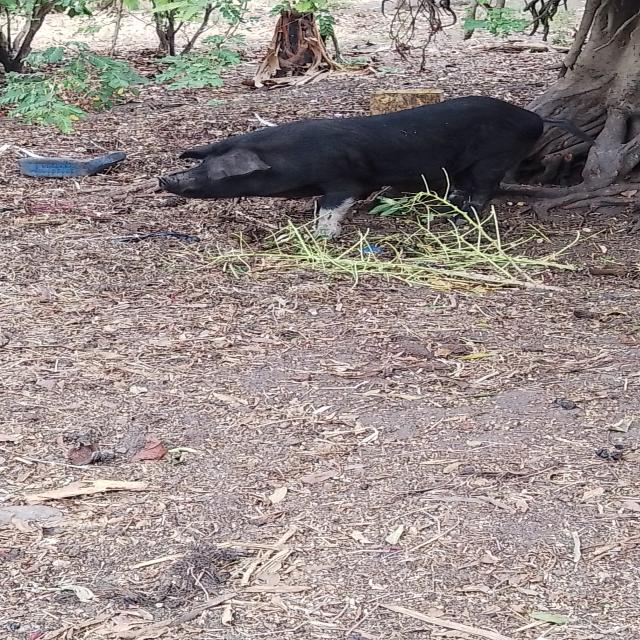pig: (129, 79, 593, 256)
